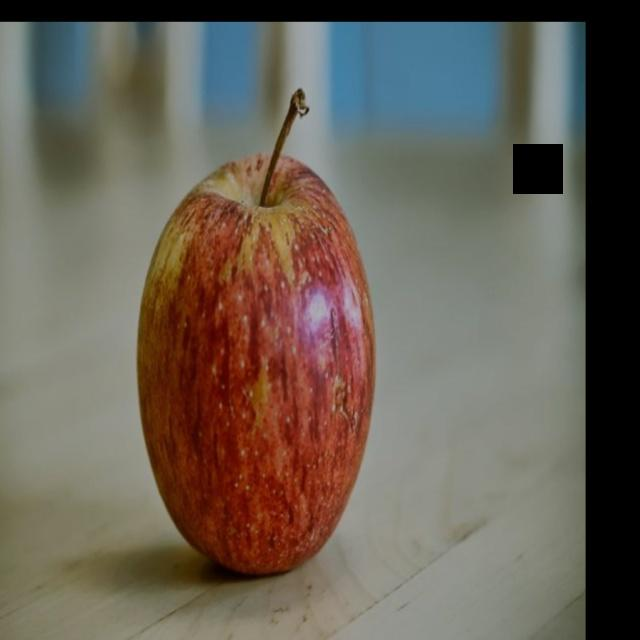red apple: (138, 147, 379, 574)
